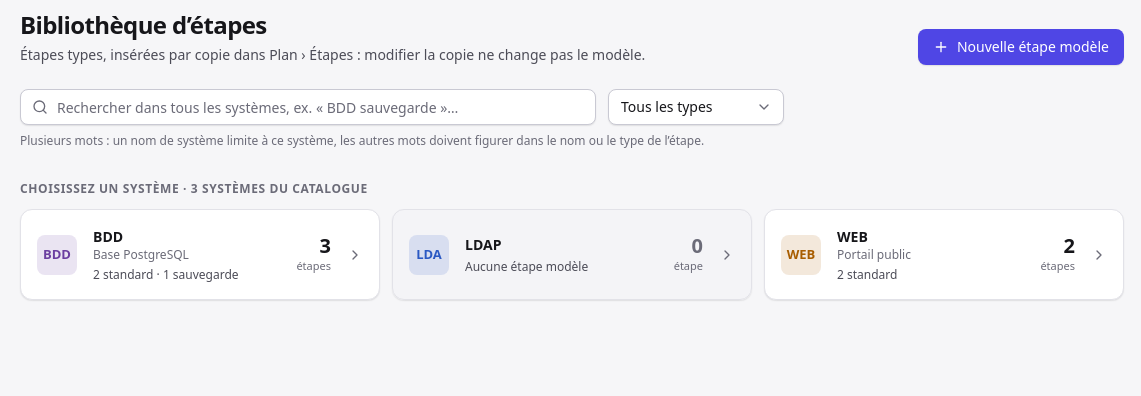
Test case: Bibliothèque d’étapes › recherche « BDD sauvegarde » depuis l’accueil : système reconnu, mot cherché dans le nom ou le type
expect the link with aria-label "BDD : 3 étapes" is shown: met, box 20,209 -> 380,300
Type "BDD sauvegarde" into the search field named "Rechercher dans la bibliothèque". click: (308, 107)
box: 20,89 -> 596,125
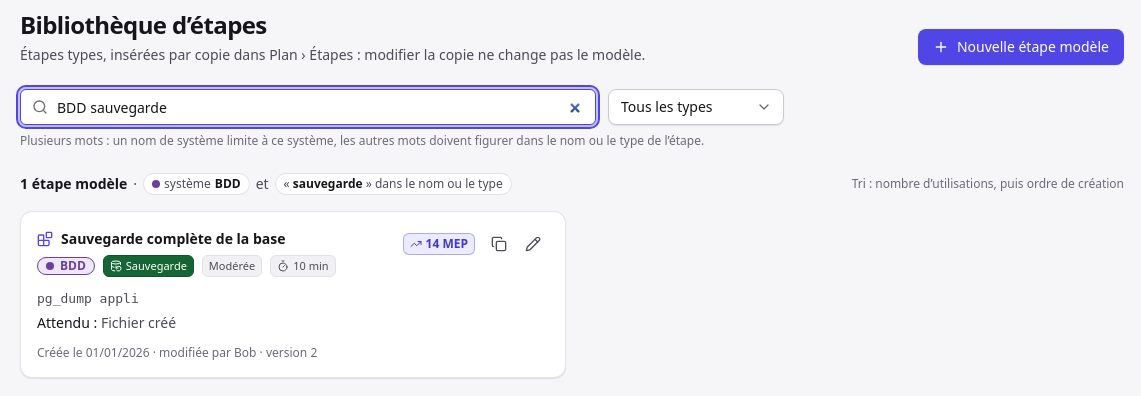
expect the message shows "1 étape modèle": met, box 20,174 -> 127,193
expect the message shows "système BDD": met, box 20,173 -> 512,195
